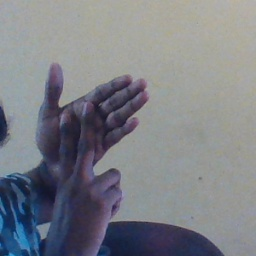N: (31, 59, 154, 220)
